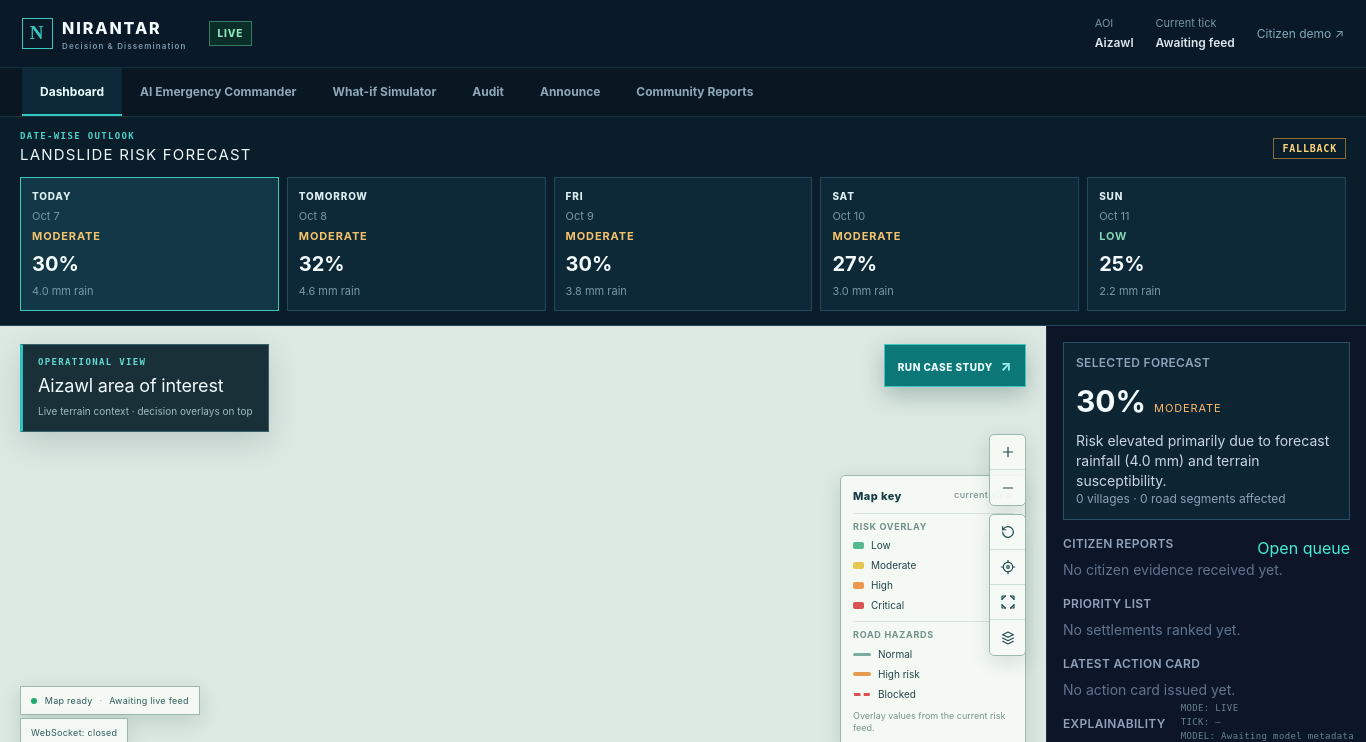
Scenario: App routing › navigates to the Announce workspace
This screenshot has width=1366, height=742.
Click the button "Announce" at {"x": 570, "y": 92}, box x1=522 y1=68 x2=618 y2=116
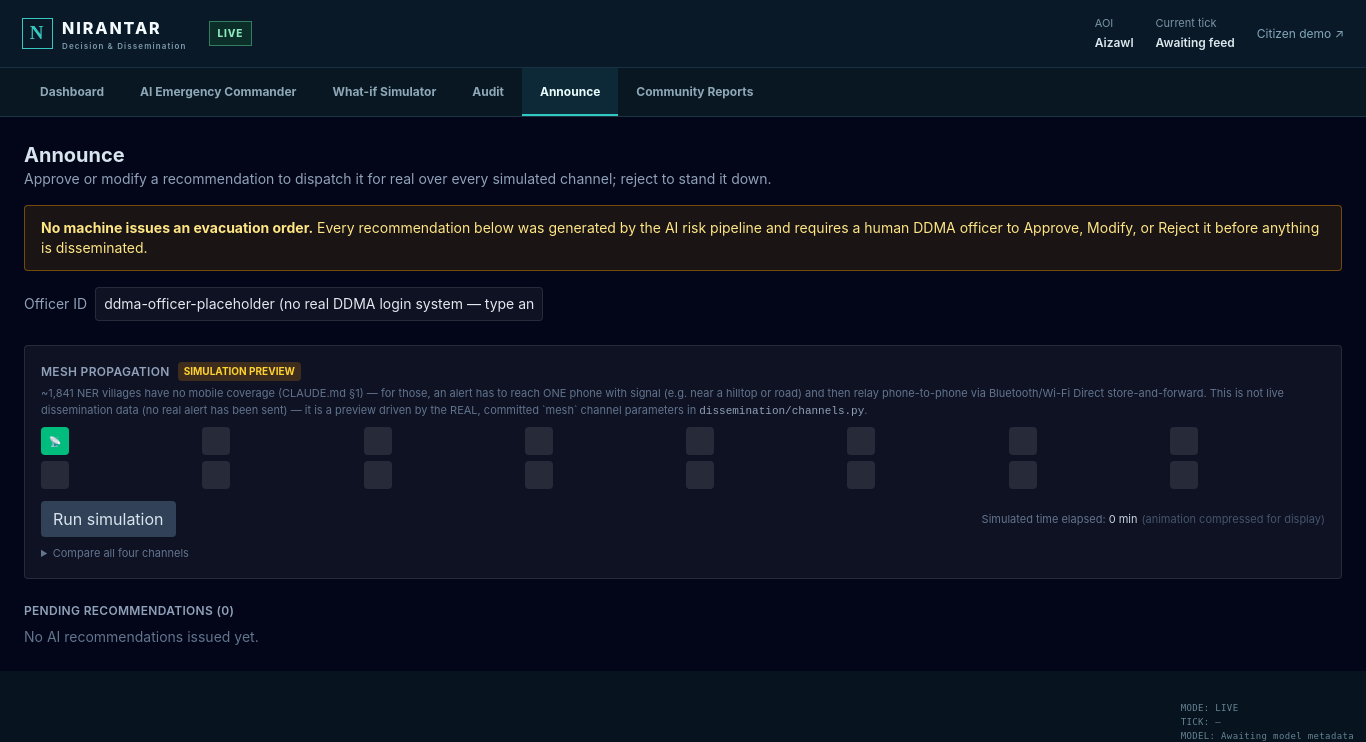
expect the text "Officer ID" is shown: met, box x1=24 y1=294 x2=87 y2=314
